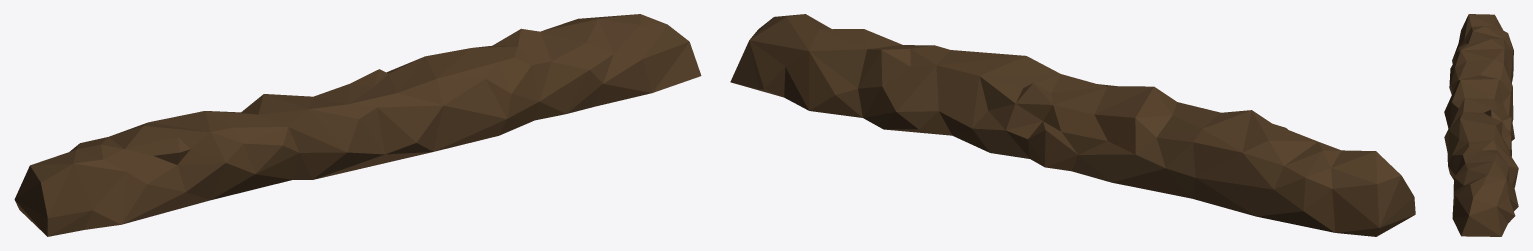
File: MCastle_DirtBoarder_Large_01.FBX
3 views of the same model, side by side, from view 1: azimuth 30°, elevation 25°; view 2: azimuth 150°, elevation 25°; view 3: azimuth 270°, elevation 25° (orthographic). The views are drawn at different scales.
Visible parts, largest first — view 1: MCastle_DirtBoarder_Large_01_LOD0; view 2: MCastle_DirtBoarder_Large_01_LOD0; view 3: MCastle_DirtBoarder_Large_01_LOD0.
Part boxes in pixels (<box>): MCastle_DirtBoarder_Large_01_LOD0: <box>14,14,701,236</box>; MCastle_DirtBoarder_Large_01_LOD0: <box>730,14,1415,236</box>; MCastle_DirtBoarder_Large_01_LOD0: <box>1444,14,1518,236</box>.
Size of what is drawn, in the model's own units: 4.5 by 0.439 by 0.7248.
